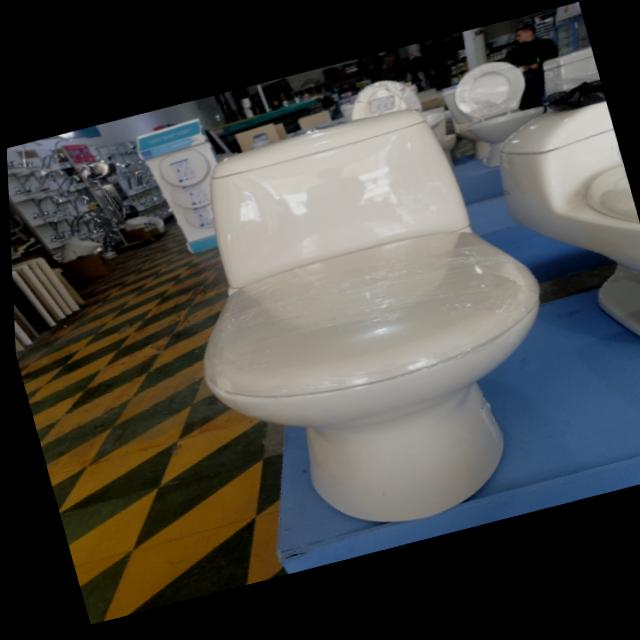toilet: (143, 86, 589, 563), (469, 46, 640, 394), (338, 67, 463, 186), (445, 53, 557, 174), (437, 82, 488, 165)
